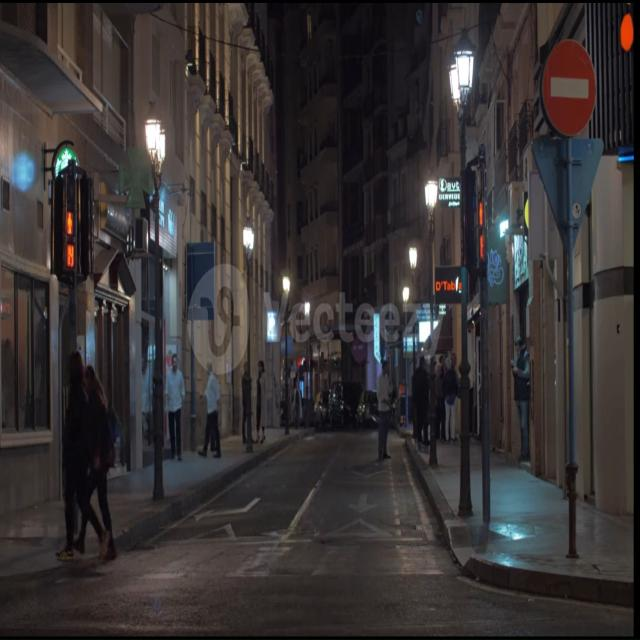pedestrian: (60, 351, 102, 559), (84, 365, 116, 558), (73, 515, 87, 553)
